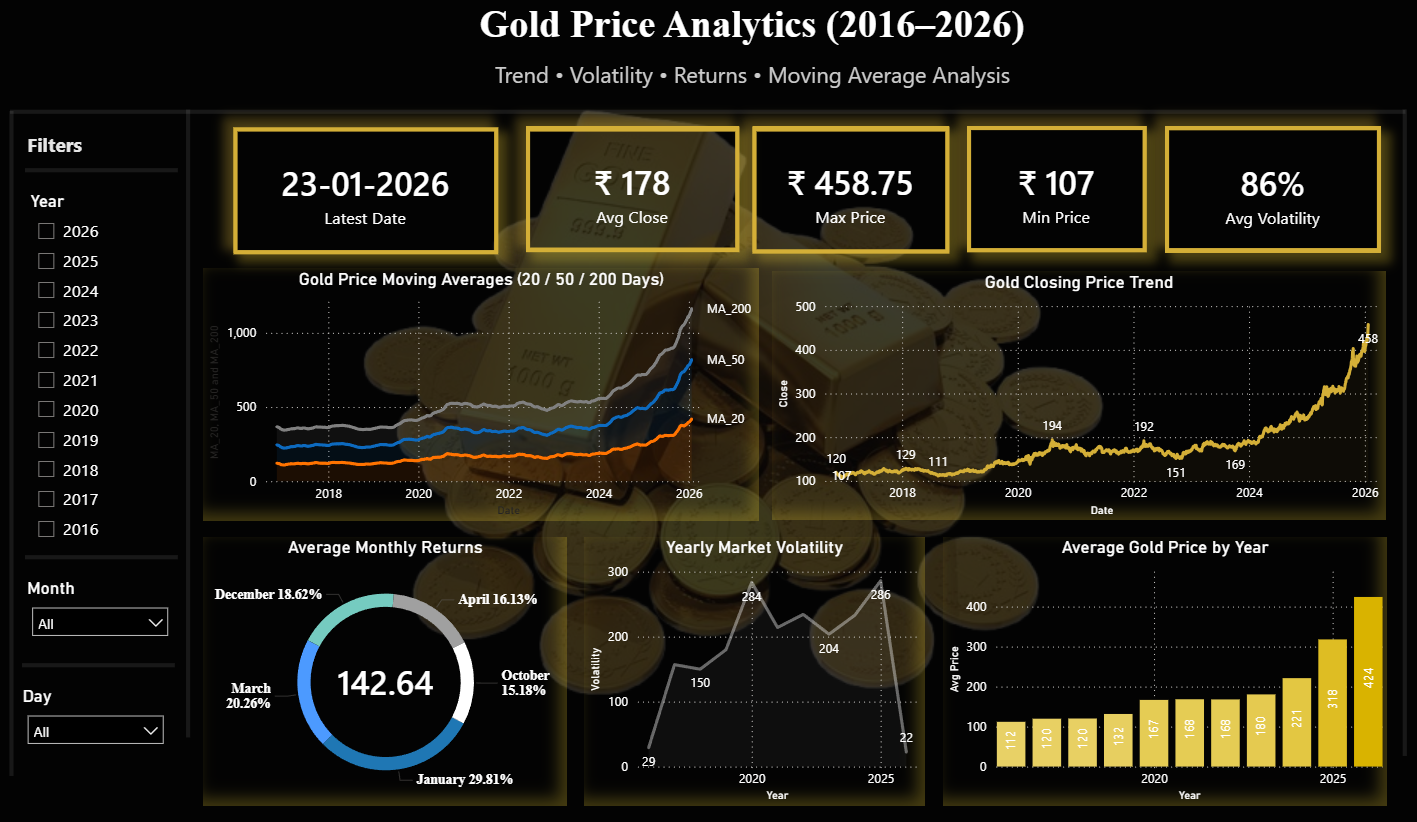

Layout of this report page (visuals, bound fields, positions):
{"tool":"powerbi","page":{"name":"Page 1","canvas":[1380,803],"ordinal":0},"visuals":[{"type":"cardVisual","fields":{"Data":["gold_prices_10y.Avg Volatility"]},"box":[1134.4,126.4,210.1,122],"z":1000},{"type":"cardVisual","fields":{"Data":["gold_prices_10y.Avg Close"]},"box":[512.6,125.7,207.3,122.4],"z":2000},{"type":"cardVisual","fields":{"Data":["gold_prices_10y.Max Price"]},"box":[733,125.7,191,122.4],"z":3000},{"type":"lineChart","fields":{"Category":["gold_prices_10y.Date"],"Y":["Sum(gold_prices_10y.Close)"]},"box":[752.8,266.8,597.4,242.2],"z":4000},{"type":"stackedAreaChart","fields":{"Category":["gold_prices_10y.Date"],"Y":["Sum(gold_prices_10y.MA_20)","Sum(gold_prices_10y.MA_50)","Sum(gold_prices_10y.MA_200)"]},"box":[199.7,263.5,540.1,245.5],"z":5000},{"type":"slicer","title":"Year","fields":{"Values":["gold_prices_10y.Year"]},"box":[26.1,187.7,156.7,352.6],"z":6000},{"type":"columnChart","fields":{"Y":["gold_prices_10y.Yearly Avg Price"],"Category":["gold_prices_10y.Year"]},"box":[918.1,525.3,432.1,261.9],"z":7000},{"type":"donutChart","fields":{"Category":["gold_prices_10y.Month Name"],"Y":["Sum(gold_prices_10y.Daily_Return)"]},"box":[199.7,525.3,353.5,261.9],"z":8000},{"type":"textbox","box":[226.3,0,1013.9,70.5],"z":9000},{"type":"textbox","box":[371.5,36,723.4,93.3],"z":10000},{"type":"cardVisual","fields":{"Data":["gold_prices_10y.Latest Close"]},"box":[229.2,126.4,257.2,122],"z":11000},{"type":"cardVisual","fields":{"Data":["gold_prices_10y.Min Price"]},"box":[942,125.7,174.7,122.4],"z":12000},{"type":"textbox","box":[229.2,126.4,257.2,123.4],"z":13000},{"type":"textbox","box":[511,125.7,209,122.4],"z":14000},{"type":"textbox","box":[733,125.7,191,122.4],"z":15000},{"type":"textbox","box":[942,125.7,174.7,122.4],"z":16000},{"type":"textbox","box":[1134.4,127.8,210.1,122],"z":17000},{"type":"lineChart","fields":{"Y":["Sum(gold_prices_10y.Volatility_20)"],"Category":["gold_prices_10y.Date.Variation.Date Hierarchy.Year"]},"box":[569.5,525.3,330.6,261.9],"z":18000},{"type":"shape","box":[11.4,98,1356.6,27.8],"z":19000},{"type":"shape","box":[1356.7,109.7,22.9,628.4],"z":20000},{"type":"shape","box":[175.1,109.7,19.6,610.4],"z":21000},{"type":"shape","box":[26.1,538.7,148.6,13.1],"z":22000},{"type":"shape","box":[0,111.3,26.2,646.5],"z":24000},{"type":"shape","box":[26.1,161.6,148.6,13.1],"z":25000},{"type":"textbox","box":[22.9,125.7,99.6,42.4],"z":26000},{"type":"slicer","title":"Month","fields":{"Values":["gold_prices_10y.Month Name"]},"box":[22.9,564.6,152.2,68.7],"z":26001}]}

Visuals, with their boxes in screenshot pixels (x1, y1, x2, y2), scaled from the page's 1380x803 canvas onto the 1417x822 screenshot:
cardVisual - gold_prices_10y.Avg Volatility: (1165, 129, 1381, 254)
cardVisual - gold_prices_10y.Avg Close: (526, 129, 739, 254)
cardVisual - gold_prices_10y.Max Price: (753, 129, 949, 254)
lineChart - gold_prices_10y.Date x Sum(gold_prices_10y.Close): (773, 273, 1386, 521)
stackedAreaChart - gold_prices_10y.Date x Sum(gold_prices_10y.MA_20): (205, 270, 760, 521)
"Year" slicer: (27, 192, 188, 553)
columnChart - gold_prices_10y.Yearly Avg Price x gold_prices_10y.Year: (943, 538, 1386, 806)
donutChart - gold_prices_10y.Month Name x Sum(gold_prices_10y.Daily_Return): (205, 538, 568, 806)
textbox: (232, 0, 1273, 72)
textbox: (381, 37, 1124, 132)
cardVisual - gold_prices_10y.Latest Close: (235, 129, 499, 254)
cardVisual - gold_prices_10y.Min Price: (967, 129, 1147, 254)
textbox: (235, 129, 499, 256)
textbox: (525, 129, 739, 254)
textbox: (753, 129, 949, 254)
textbox: (967, 129, 1147, 254)
textbox: (1165, 131, 1381, 256)
lineChart - Sum(gold_prices_10y.Volatility_20) x gold_prices_10y.Date.Variation.Date Hierarchy.Year: (585, 538, 924, 806)
shape: (12, 100, 1405, 129)
shape: (1393, 112, 1416, 756)
shape: (180, 112, 200, 737)
shape: (27, 551, 179, 565)
shape: (0, 114, 27, 776)
shape: (27, 165, 179, 179)
textbox: (24, 129, 126, 172)
"Month" slicer: (24, 578, 180, 648)
